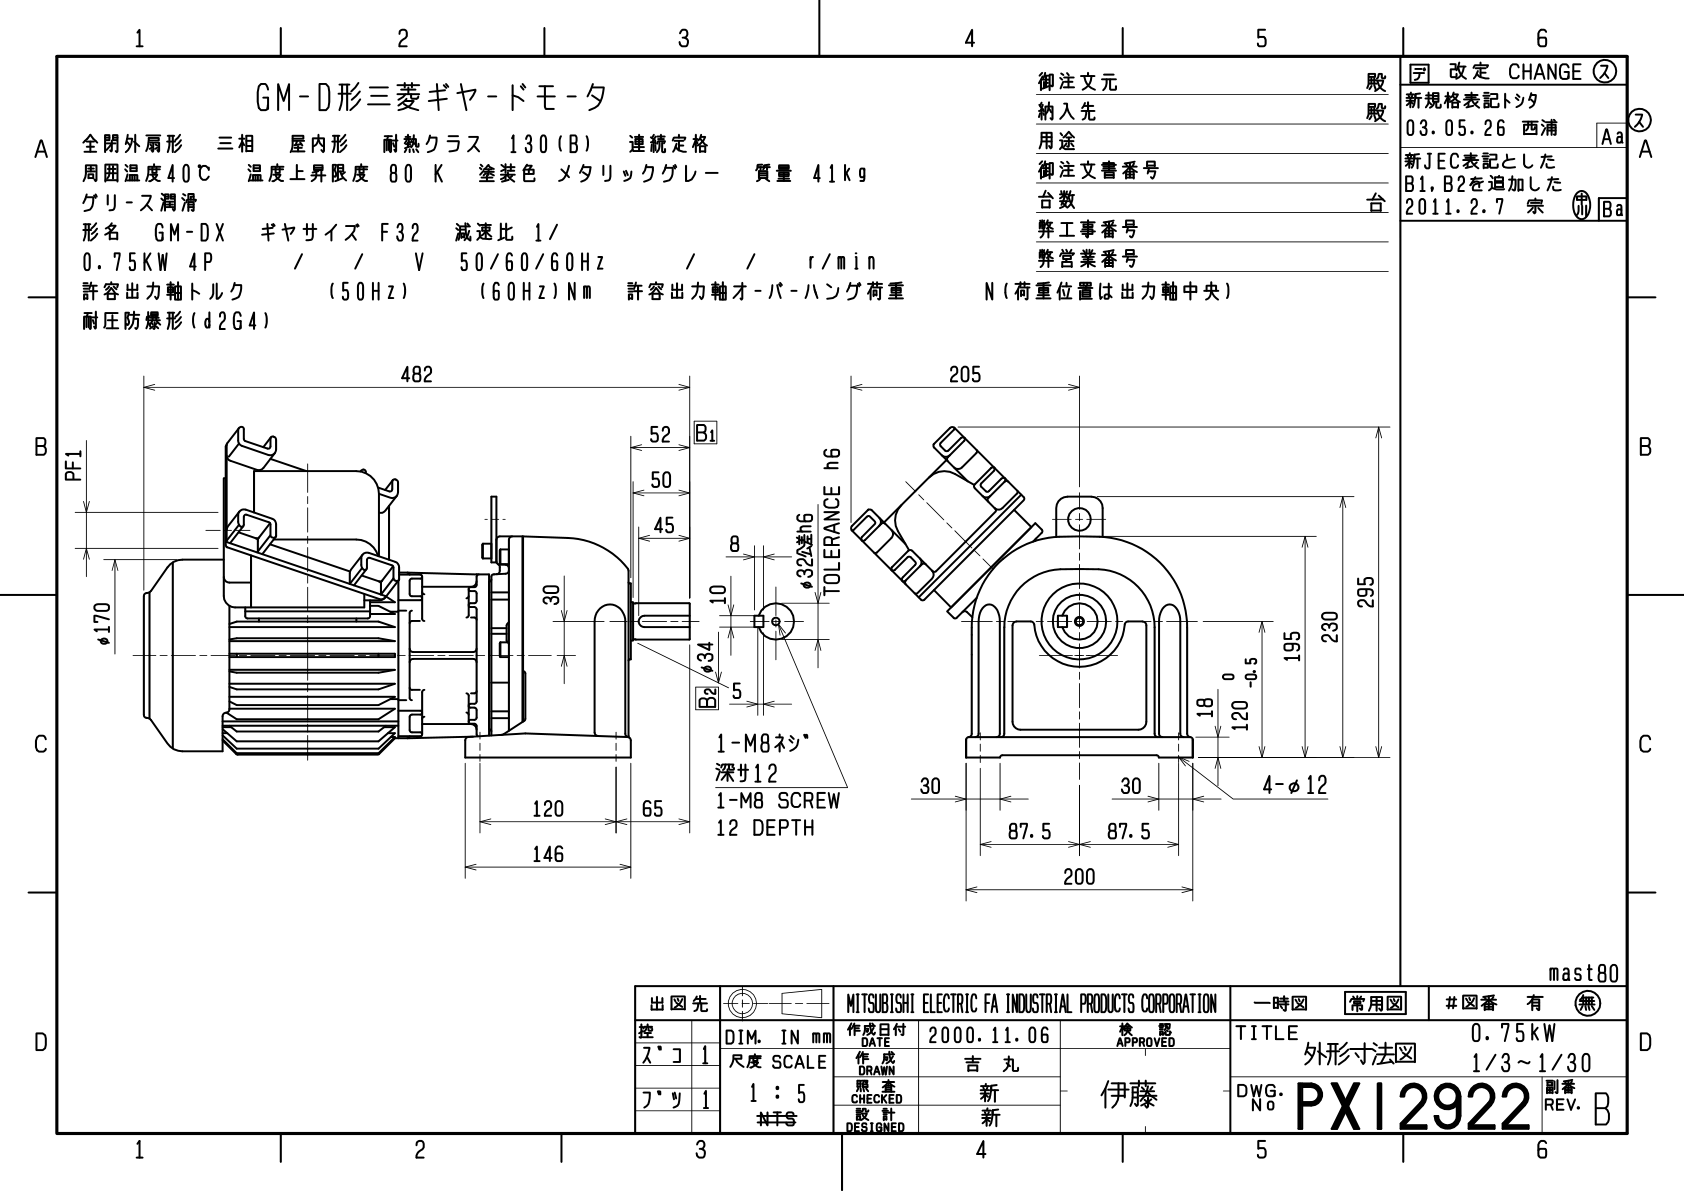GM_D_耐圧屋内_三相_脚: (6, 6, 1684, 1191)
